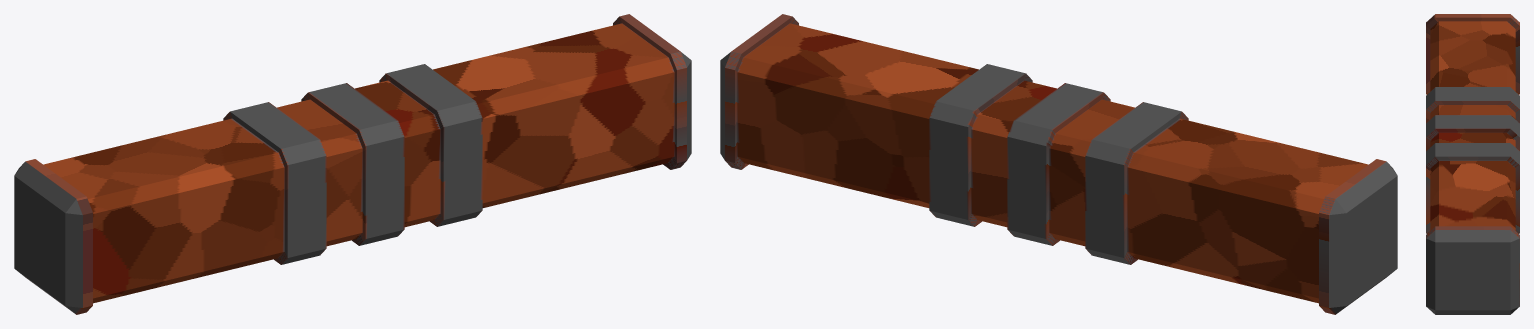
File: LongBox.glb
3 views of the same model, side by side, from view 1: azimuth 30°, elevation 25°; view 2: azimuth 150°, elevation 25°; view 3: azimuth 270°, elevation 25° (orthographic). The views are drawn at different scales.
Visible parts, largest first — view 1: LongBox; view 2: LongBox; view 3: LongBox.
Boxes of the visible parts, x1,y1,x2,y2 form: LongBox: [14, 14, 691, 314]; LongBox: [720, 14, 1397, 314]; LongBox: [1426, 14, 1519, 314].
Bounding box in the file's own units: 6.21 × 1.1 × 1.1.
1 material, 1 textured.
